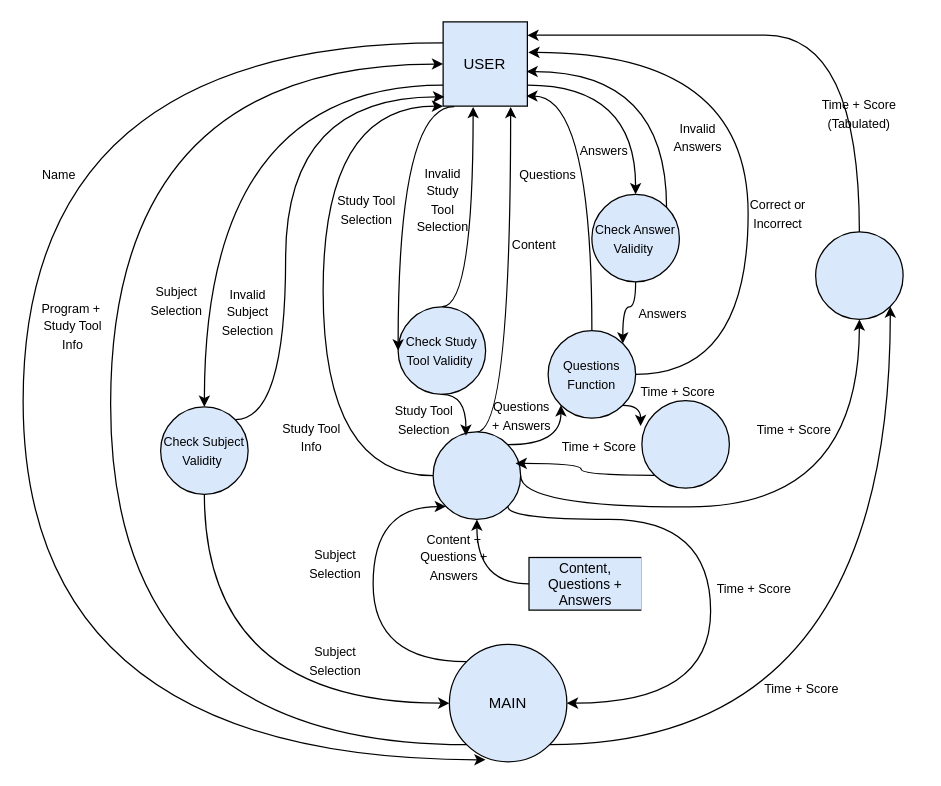
The diagram is 941 pixels wide and 786 high, and some of its shapes have lost their labels. The box of each missing label's shape, as (x1, y1, x2, y2) in pixels:
Calculate Score: (641, 399, 729, 488)
Subject MAIN: (432, 431, 521, 519)
Tabulate Data: (814, 231, 903, 319)
